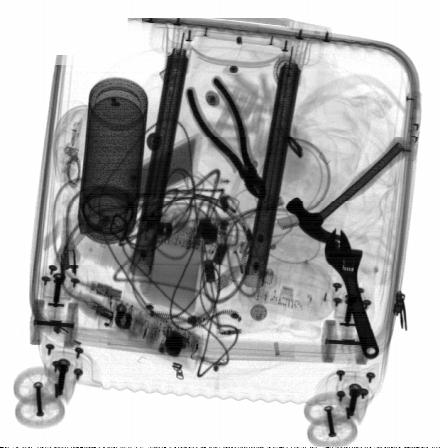Hammer: (285, 137, 408, 246)
Pliers: (185, 75, 268, 201)
Powerbank: (128, 132, 202, 208)
Wrench: (323, 227, 381, 360)
